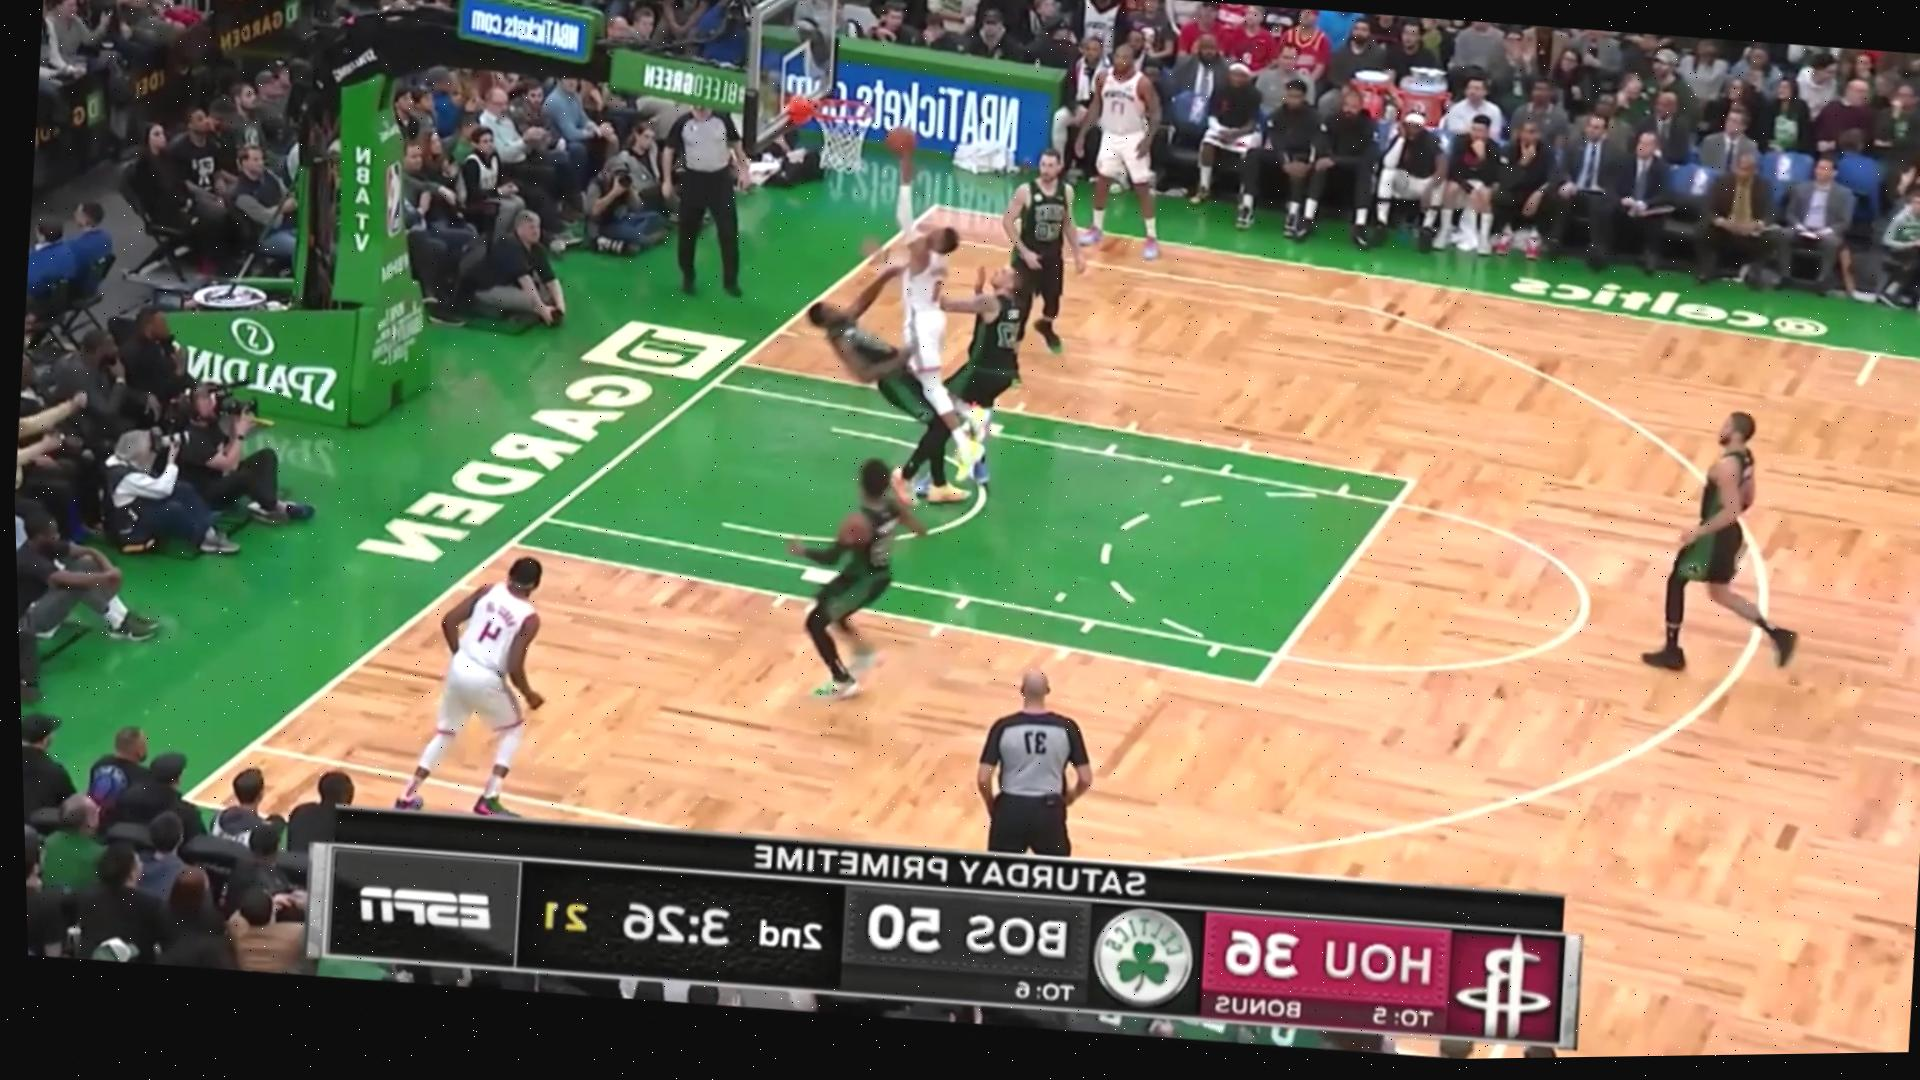foul: (795, 190, 975, 443)
